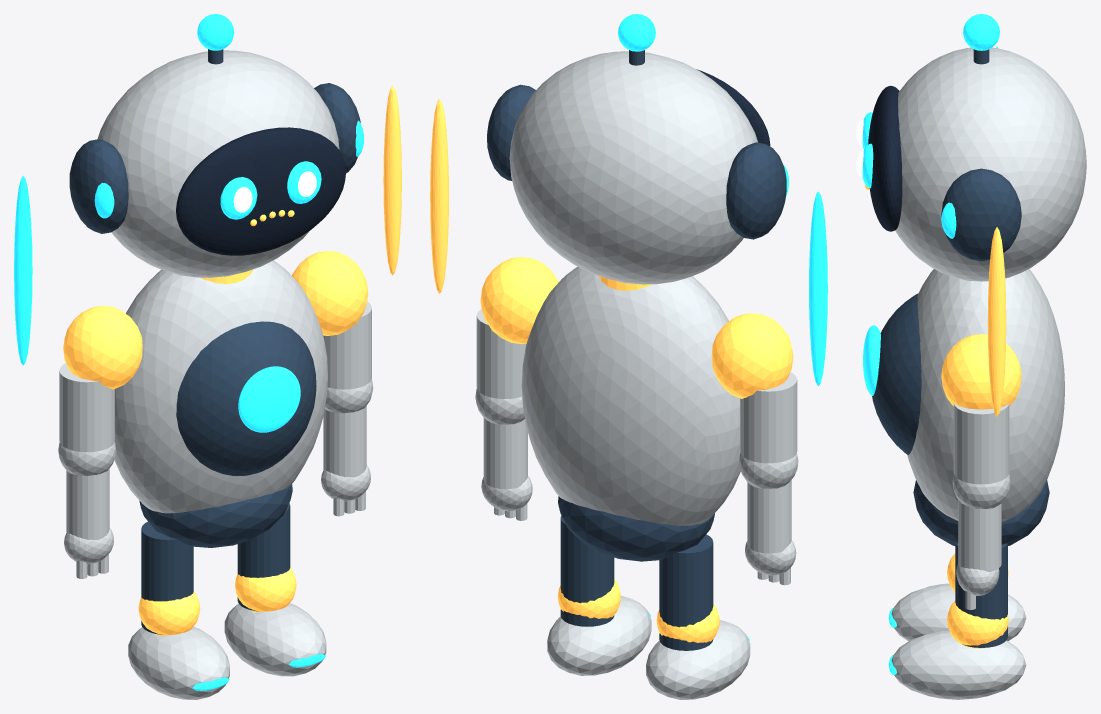
File: VAYA-Java-Robot.glb
3 renders of one model, left to right at view 1: azimuth 30°, elevation 25°; view 2: azimuth 150°, elevation 25°; view 3: azimuth 270°, elevation 25°, orthographic. The views are drawn at different scales.
Visible parts, largest first — view 1: Torso, HeadShell, FaceVisor, ChestPlate, ArmWaveLeft, ArmWaveRight, FootR, FootL, ShoulderL, Hip, ShoulderR, AudioCupL (+11 smaller); view 2: Torso, HeadShell, ArmWaveLeft, ArmWaveRight, ShoulderL, FootR, FootL, Hip, AudioCupL, ShoulderR, LegL, LegR (+7 smaller); view 3: HeadShell, Torso, ArmWaveRight, FootR, ChestPlate, AudioCupR, ShoulderR, FaceVisor, FootL, HaloRight, Hip, LegR (+5 smaller).
Part boxes in pixels (box(x1,y1,x2,y2)): Torso: box(114, 260, 327, 513); HeadShell: box(97, 50, 339, 277); FaceVisor: box(176, 127, 345, 255); ChestPlate: box(176, 321, 316, 476); ArmWaveLeft: box(58, 363, 116, 578); ArmWaveRight: box(321, 301, 373, 516); FootR: box(224, 603, 326, 676); FootL: box(128, 626, 229, 699); ShoulderL: box(63, 306, 142, 389); Hip: box(139, 484, 292, 547); ShoulderR: box(292, 251, 368, 335); AudioCupL: box(69, 139, 128, 233); Torso: box(521, 266, 740, 525); HeadShell: box(509, 51, 757, 284); ArmWaveLeft: box(739, 372, 798, 585); ArmWaveRight: box(475, 309, 532, 520); ShoulderL: box(711, 313, 793, 398); FootR: box(547, 596, 651, 675); FootL: box(646, 620, 750, 699); Hip: box(558, 496, 714, 561); AudioCupL: box(726, 142, 786, 239); ShoulderR: box(480, 257, 558, 344); LegL: box(659, 534, 713, 650); LegR: box(560, 515, 614, 626); HeadShell: box(895, 47, 1086, 281); Torso: box(907, 269, 1064, 521); ArmWaveRight: box(952, 404, 1010, 609); FootR: box(891, 630, 1026, 699); ChestPlate: box(872, 293, 921, 454); AudioCupR: box(941, 168, 1021, 261); ShoulderR: box(941, 334, 1021, 409); FaceVisor: box(868, 85, 902, 231); FootL: box(891, 583, 1026, 641); HaloRight: box(987, 227, 1006, 416); Hip: box(913, 480, 1049, 545); LegR: box(955, 543, 1007, 647).
Size of the model in its own units: 1.44 by 2.33 by 0.745.
